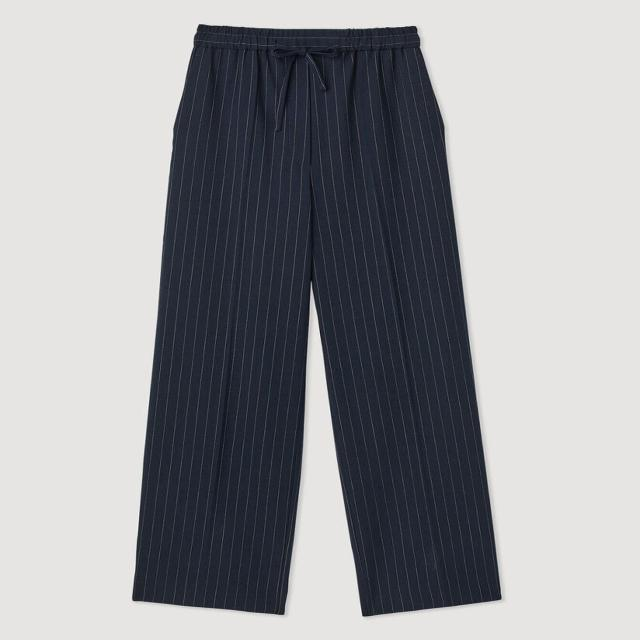long-pants: (130, 24, 504, 621)
